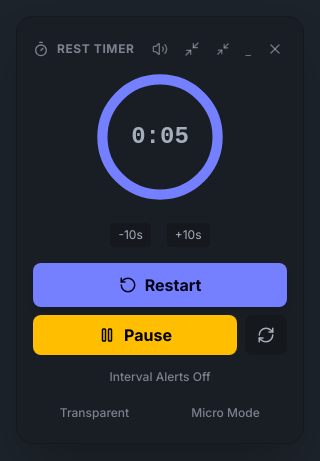
Scenario: RestTimer › should format negative time correctly
Note: Pause first to prevent counting
Step 1. Click the button "Pause" → coordinates (135, 335), box 33,315 -> 237,355
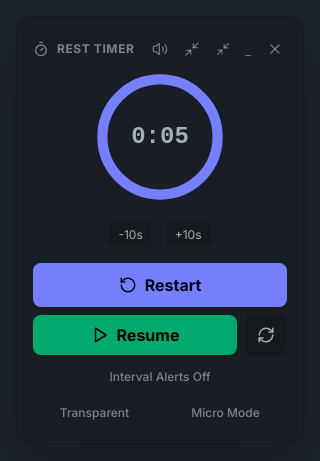
Note: Manually set to negative by subtracting
Step 2. Click the button "-10s" → coordinates (131, 235), box 110,223 -> 151,247
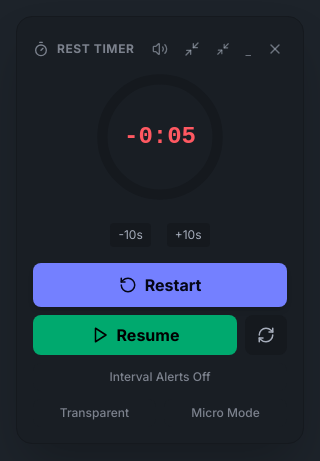
Expected: the text "-0:05" is shown, 124,121 -> 196,153
Note: Subtract more
Step 3. Click the button "-10s" → coordinates (131, 235), box 110,223 -> 151,247
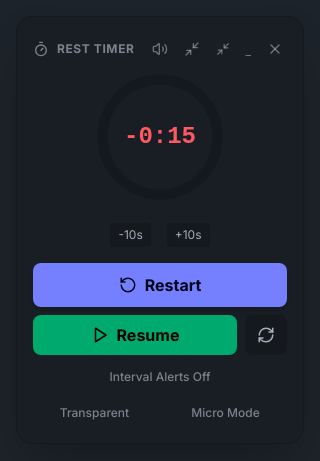
Expected: the text "-0:15" is shown, 124,121 -> 196,153
